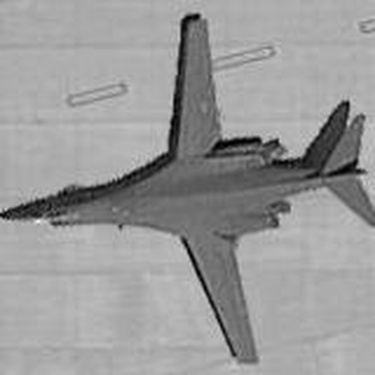airplane: (5, 6, 371, 369)
